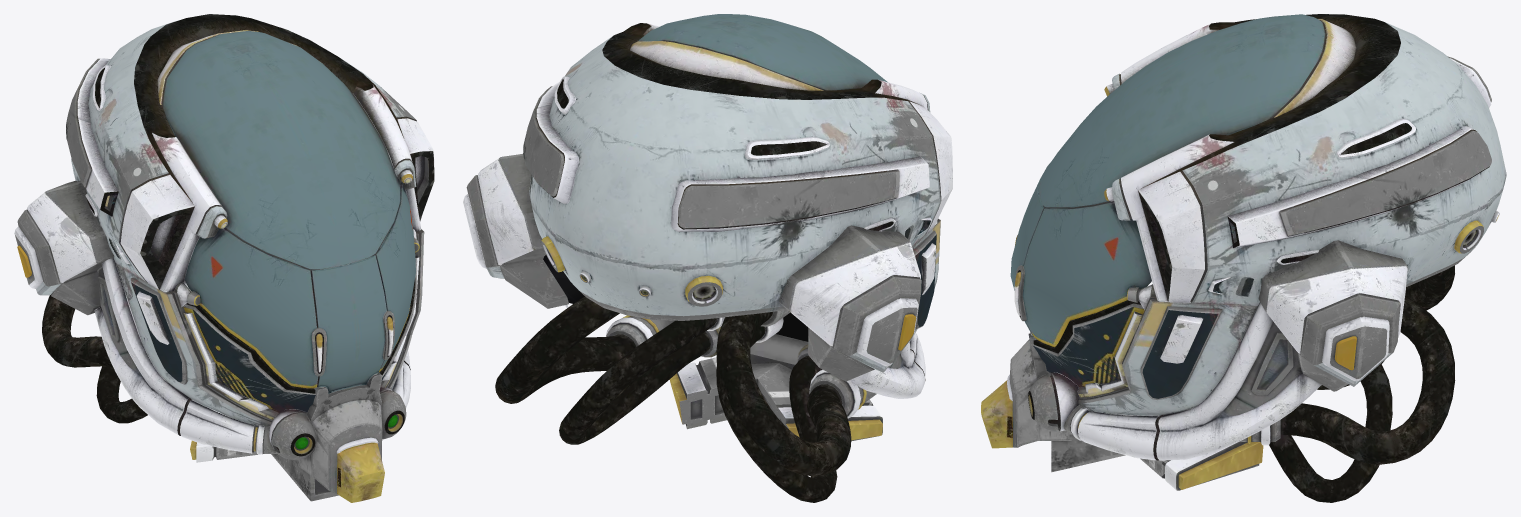
The model's file is damagedhelmet.glb.
The picture shows the model from 3 angles, left to right: view 1: azimuth 30°, elevation 25°; view 2: azimuth 150°, elevation 25°; view 3: azimuth 270°, elevation 25°; orthographic projection. The views are drawn at different scales.
Parts seen in each view (by area): view 1: node_damagedHelmet_-6514; view 2: node_damagedHelmet_-6514; view 3: node_damagedHelmet_-6514.
Part boxes in pixels (x1=…): node_damagedHelmet_-6514: x1=14, y1=14, x2=434, y2=502; node_damagedHelmet_-6514: x1=463, y1=14, x2=952, y2=502; node_damagedHelmet_-6514: x1=981, y1=14, x2=1506, y2=502.
Size of the model in its own units: 1.89 by 1.8 by 2.
Materials: 1 (1 with a texture image).
